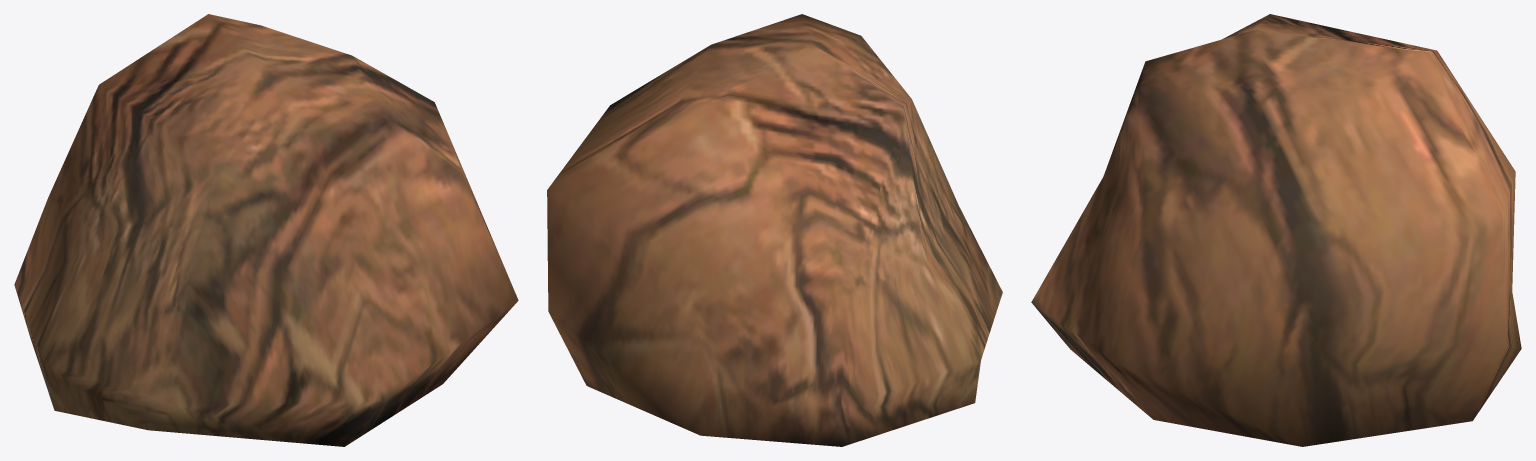
Rendered from M3_Boulder2.glb.
3 renders of one model, left to right at view 1: azimuth 30°, elevation 25°; view 2: azimuth 150°, elevation 25°; view 3: azimuth 270°, elevation 25°, orthographic. The views are drawn at different scales.
Parts seen in each view (by area): view 1: M3_BOULDER2; view 2: M3_BOULDER2; view 3: M3_BOULDER2.
Part boxes in pixels (x1,y1,x2,y2): M3_BOULDER2: [14, 14, 518, 446]; M3_BOULDER2: [547, 14, 1002, 446]; M3_BOULDER2: [1031, 14, 1521, 446].
Bounding box in the file's own units: 3.32 × 2.43 × 3.33.
1 material, 1 textured.
